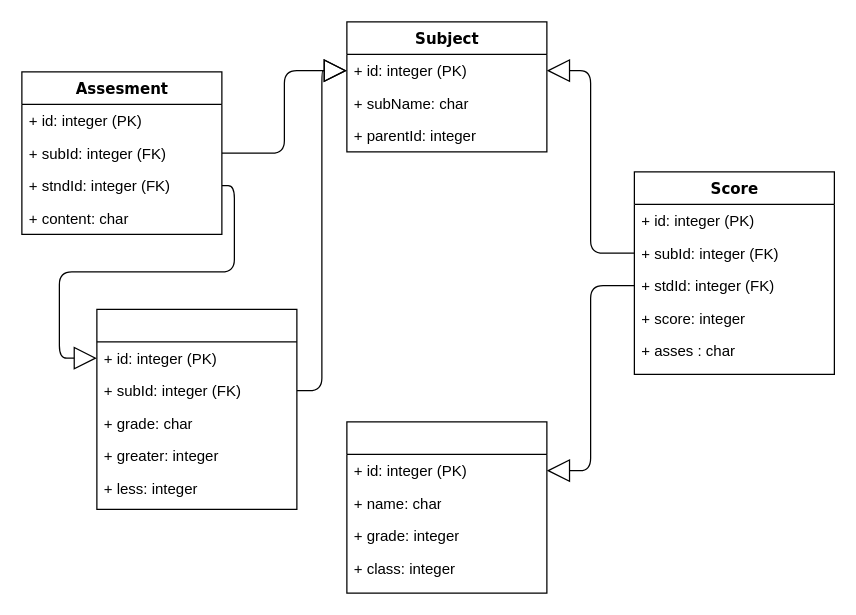
The diagram is 856 pixels wide and 615 high, and some of its shapes have lost their labels. The shapes that lost their labels are listed below. From the top down, each one's box as (x1, y1, x2, y2) in pixels, then its label:
(96, 308, 297, 509): Standard
(346, 421, 547, 593): Student
